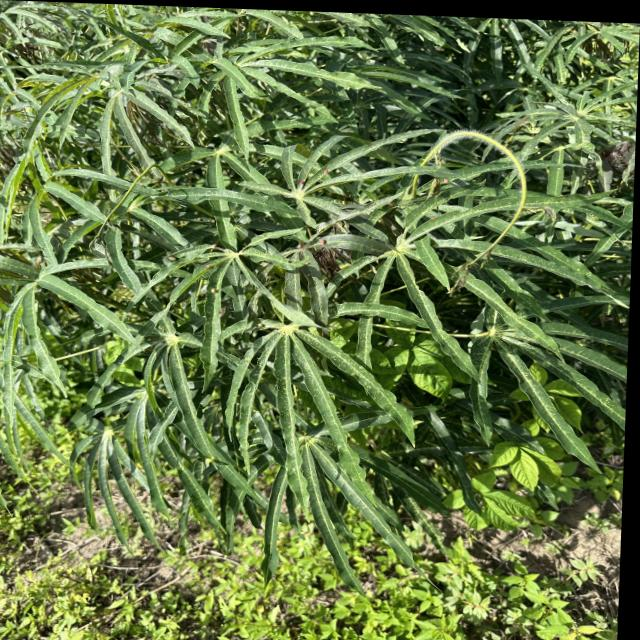Maleza: (29, 561, 639, 640), (445, 465, 547, 536), (492, 429, 584, 495), (381, 324, 453, 402)
Mosca: (244, 318, 271, 335), (201, 449, 221, 469), (204, 283, 224, 300), (317, 231, 331, 251), (204, 257, 219, 272)
